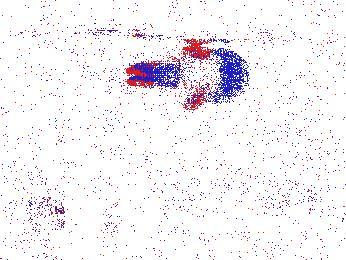flame jellyfish: (127, 45, 250, 105), (102, 172, 167, 233), (1, 165, 67, 220)
